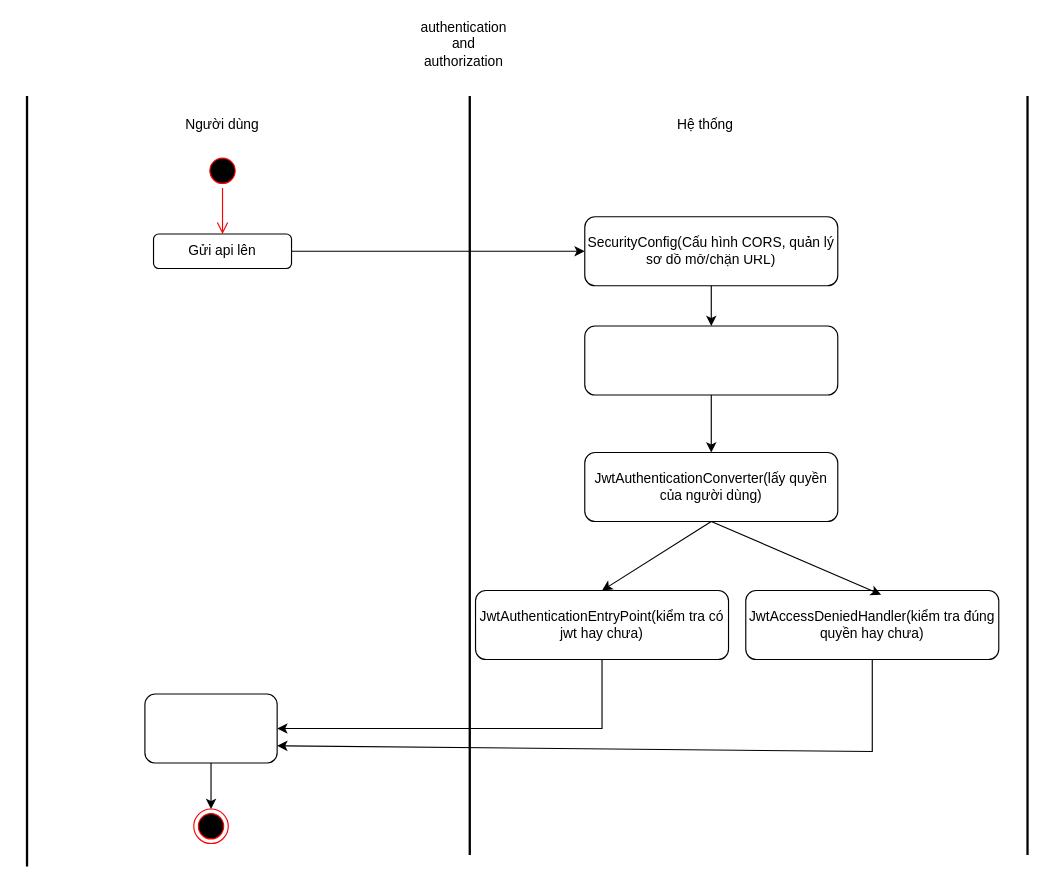
Image size: 1053x888. Some labels were removed from this diagram. Here are the shapes that lost their labels. From the top down, the box of each, then its label:
(584, 325, 838, 395): CustomJwtDecoder(kiểm trả jwt)
(144, 693, 277, 763): trả kết quả về
